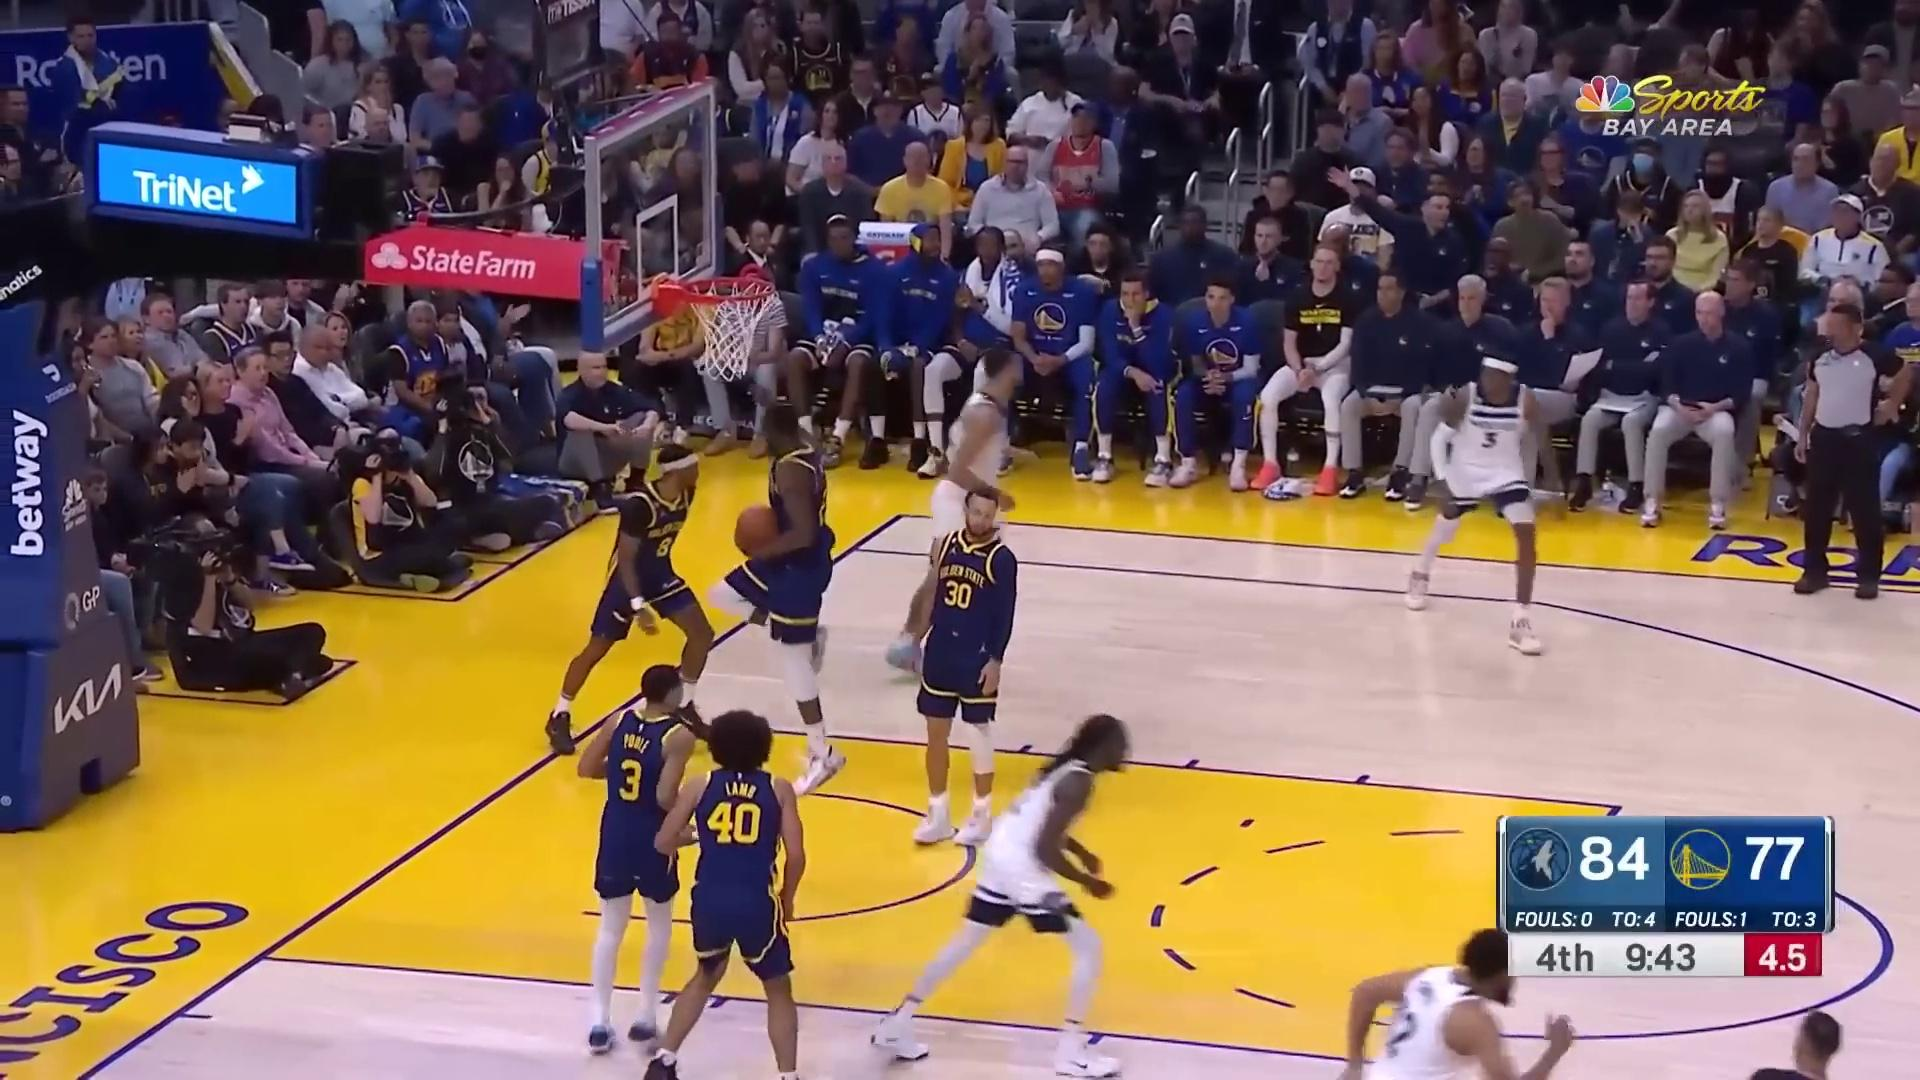Ball: (729, 493, 789, 568)
Player: (858, 699, 1138, 1080), (639, 714, 816, 1080), (541, 429, 721, 754), (884, 343, 1039, 694), (733, 391, 851, 808), (583, 656, 698, 1068), (1406, 354, 1554, 659), (906, 483, 1024, 849), (1323, 938, 1594, 1080)
Rim: (584, 71, 774, 381)
